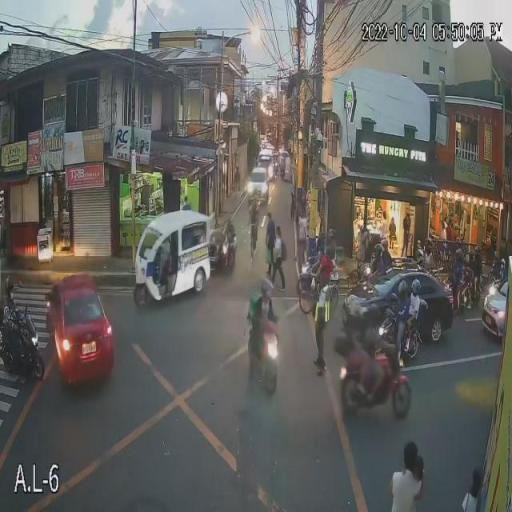helmet: (365, 306, 380, 332), (345, 303, 362, 324), (4, 277, 19, 300), (260, 280, 272, 300), (410, 279, 421, 295), (398, 282, 407, 300), (454, 249, 463, 262), (326, 230, 334, 244), (374, 244, 381, 259), (314, 241, 322, 250)
motorcycle: (327, 356, 413, 418), (242, 323, 281, 395), (2, 320, 43, 372), (378, 310, 419, 356), (442, 276, 475, 307), (291, 252, 318, 281)
rider: (342, 302, 367, 382), (368, 302, 383, 401), (4, 279, 19, 344), (256, 280, 271, 331), (396, 282, 407, 348), (408, 280, 422, 327), (452, 249, 465, 297), (323, 228, 336, 260), (372, 244, 384, 272), (313, 242, 322, 264)
